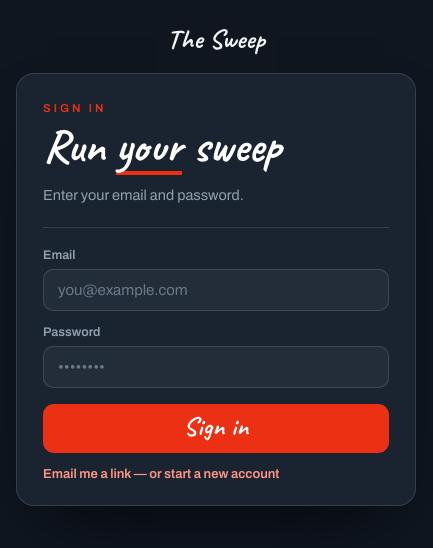
Test: a bad-credentials password sign-in shows an error and does not reload
In the field labelled "Email": (216, 290) [43,269,389,311], type "me@example.com"
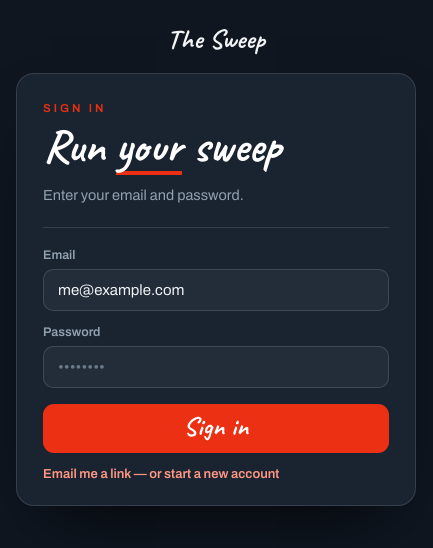
In the password field labelled "Password": (216, 367) [43,346,389,388], type "wrong"
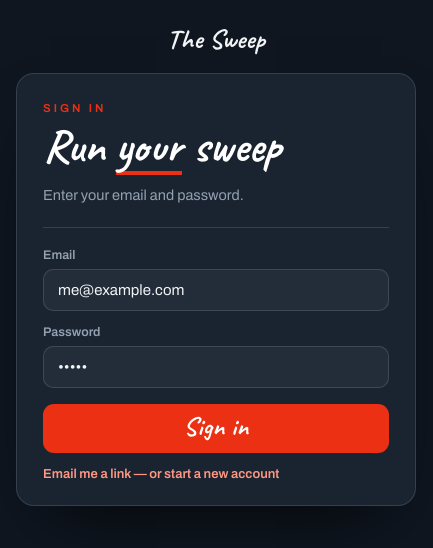
Click the button "Sign in": (216, 429) [43,404,389,453]
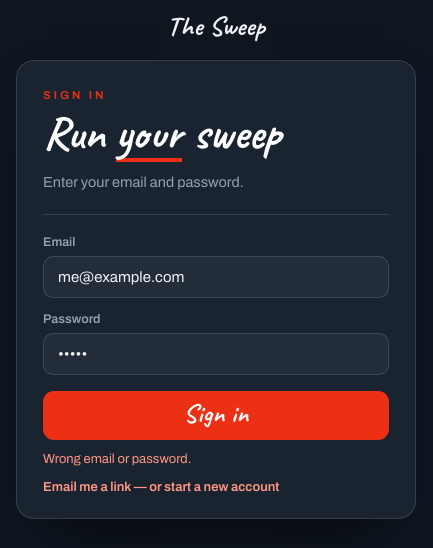
Check: the text "Wrong email or password." is shown, box [43,452,191,466]
